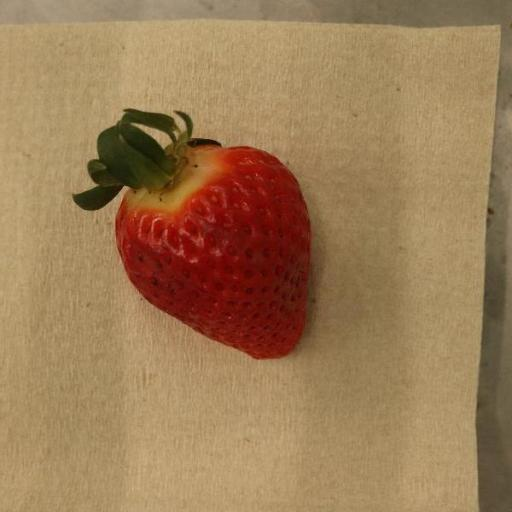Strawberry: (72, 109, 312, 361)
